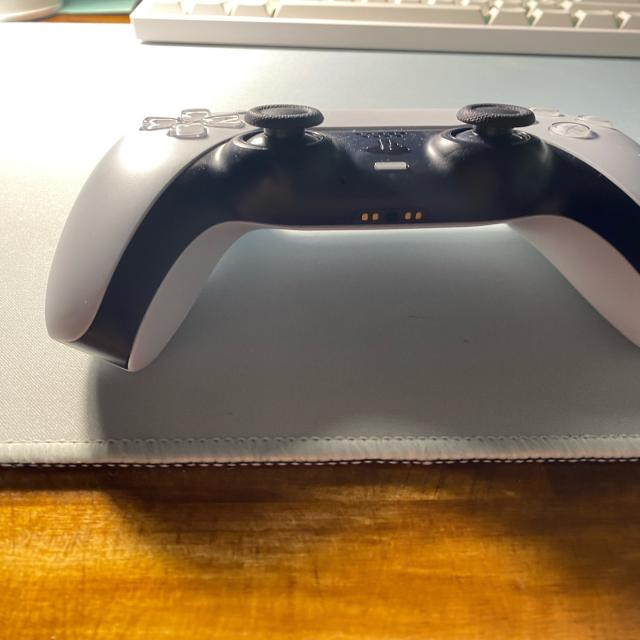dualsensePhoto: (43, 104, 637, 371), (80, 129, 638, 360), (237, 104, 327, 149), (453, 104, 535, 145), (358, 209, 425, 224), (365, 134, 410, 155), (548, 122, 592, 139), (167, 122, 207, 139), (140, 116, 178, 129), (373, 161, 408, 170)
